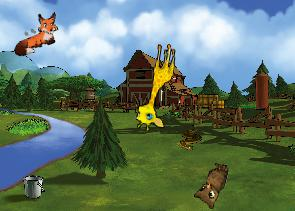fox: (5, 8, 66, 59)
giraffe: (133, 40, 177, 133)
owl: (191, 158, 229, 210)
